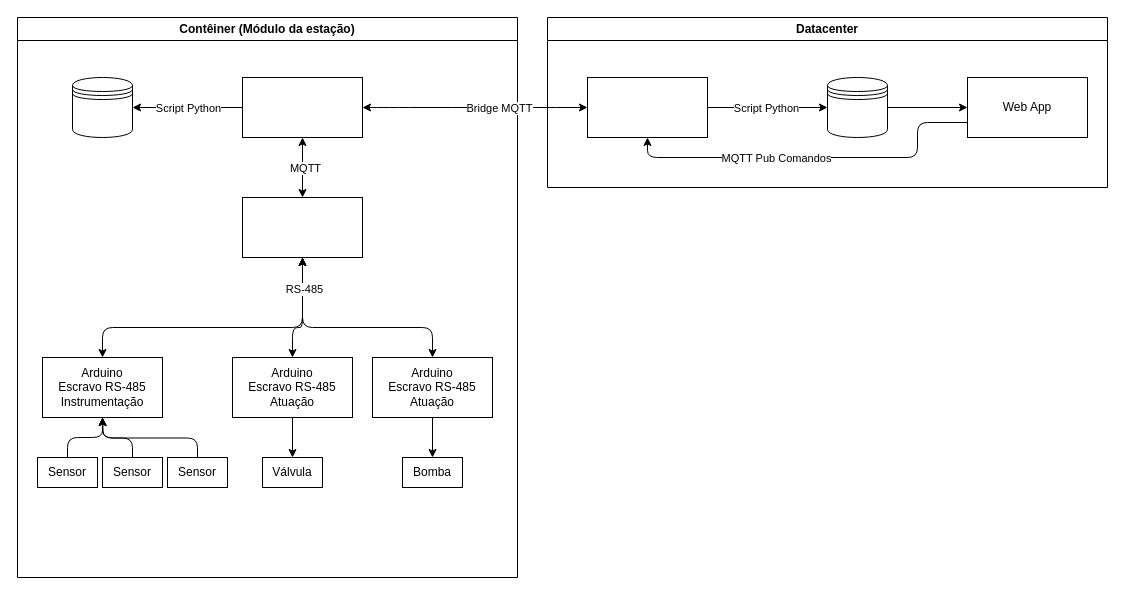
Image size: 1125x595. Some labels were removed from this diagram. Here are the shapes that lost their labels. From the top down, the centre of each, then its label:
the point at 102,107: Database local
the point at 302,107: Computador Linux MQTT Broker
the point at 647,107: MQTT Broker
the point at 857,107: Database global
the point at 302,227: Arduino Mestre RS-485 MQTT Pub/Sub
